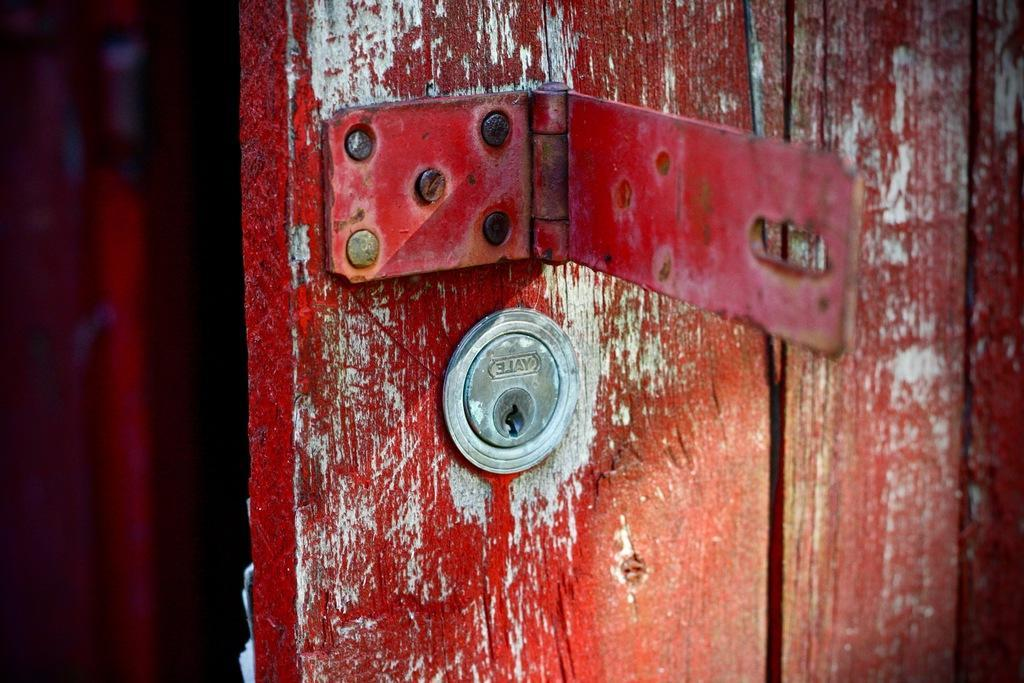handle: (316, 82, 850, 332)
